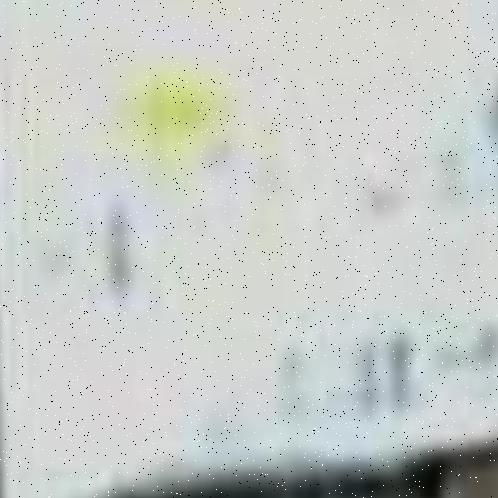Other: (0, 0, 498, 446)
